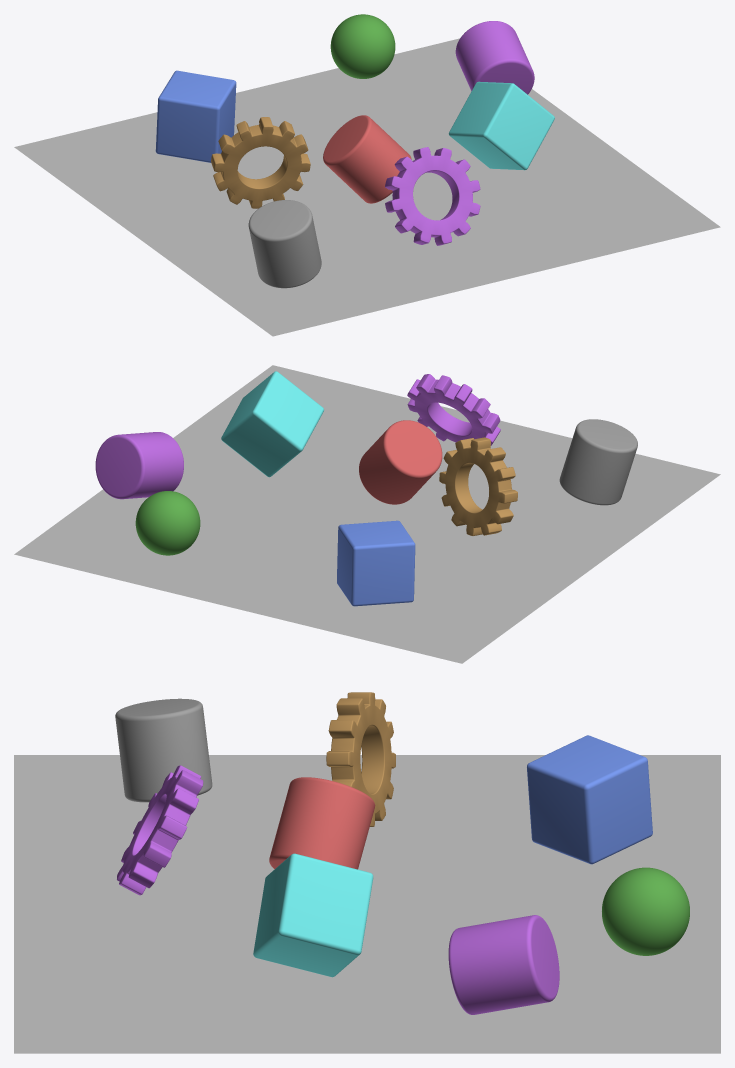
The picture shows the model from 3 angles, top to bottom: view 1: azimuth 30°, elevation 25°; view 2: azimuth 150°, elevation 25°; view 3: azimuth 270°, elevation 25°; orthographic projection. The views are drawn at different scales.
Visible parts, largest first — view 1: Cube, FileBasedObject.006, FileBasedObject.005, FileBasedObject.004, FileBasedObject.003, FileBasedObject.002, FileBasedObject, FileBasedObject.001, FileBasedObject.007; view 2: Cube, FileBasedObject.006, FileBasedObject.005, FileBasedObject.002, FileBasedObject.004, FileBasedObject, FileBasedObject.001, FileBasedObject.003, FileBasedObject.007; view 3: Cube, FileBasedObject.005, FileBasedObject.006, FileBasedObject.001, FileBasedObject.002, FileBasedObject, FileBasedObject.007, FileBasedObject.004, FileBasedObject.003.
Boxes of the visible parts, <box> form: Cube: <box>14,38,720,336</box>; FileBasedObject.006: <box>448,81,554,170</box>; FileBasedObject.005: <box>155,70,236,162</box>; FileBasedObject.004: <box>211,117,310,208</box>; FileBasedObject.003: <box>385,147,480,245</box>; FileBasedObject.002: <box>248,200,321,288</box>; FileBasedObject: <box>323,115,411,203</box>; FileBasedObject.001: <box>455,21,534,94</box>; FileBasedObject.007: <box>330,14,395,78</box>; Cube: <box>14,365,720,663</box>; FileBasedObject.006: <box>221,371,323,477</box>; FileBasedObject.005: <box>337,520,415,606</box>; FileBasedObject.002: <box>559,419,637,505</box>; FileBasedObject.004: <box>439,437,517,535</box>; FileBasedObject: <box>359,420,442,504</box>; FileBasedObject.001: <box>95,432,183,499</box>; FileBasedObject.003: <box>407,374,500,445</box>; FileBasedObject.007: <box>135,491,200,555</box>; Cube: <box>14,755,720,1053</box>; FileBasedObject.005: <box>527,735,652,864</box>; FileBasedObject.006: <box>253,853,373,977</box>; FileBasedObject.001: <box>448,915,559,1014</box>; FileBasedObject.002: <box>115,698,212,802</box>; FileBasedObject: <box>269,777,375,869</box>; FileBasedObject.007: <box>602,867,689,955</box>; FileBasedObject.004: <box>326,692,395,826</box>; FileBasedObject.003: <box>117,765,203,895</box>.
Bounding box in the file's own units: 8 × 1.67 × 8.
